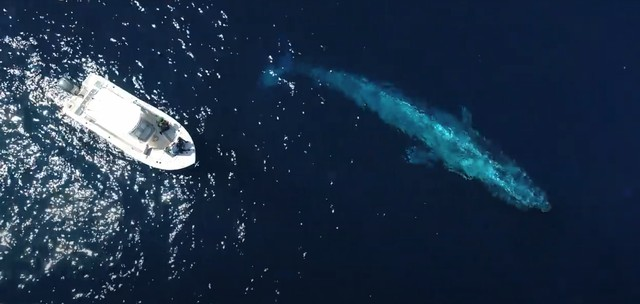whale: (249, 28, 555, 223)
